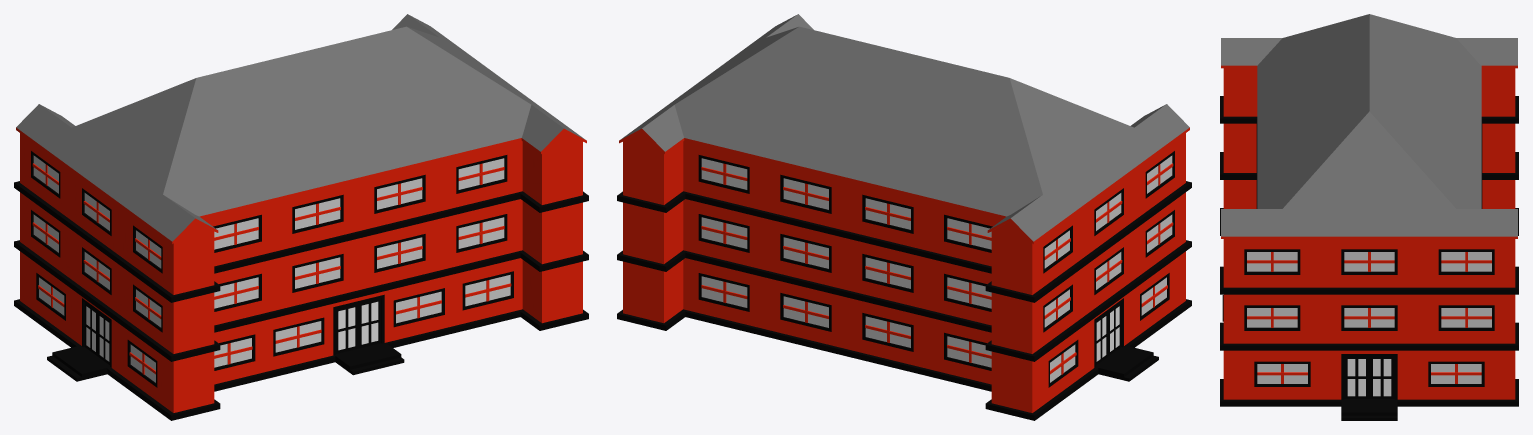
Rendered from business building 3.fbx.
3 views of the same model, side by side, from view 1: azimuth 30°, elevation 25°; view 2: azimuth 150°, elevation 25°; view 3: azimuth 270°, elevation 25° (orthographic). The views are drawn at different scales.
Visible parts, largest first — view 1: building_001; view 2: building_001; view 3: building_001.
Boxes of the visible parts, x1,y1,x2,y2 form: building_001: [14, 14, 588, 420]; building_001: [617, 14, 1191, 420]; building_001: [1220, 14, 1518, 420].
Bounding box in the file's own units: 1869 × 970 × 1062.
